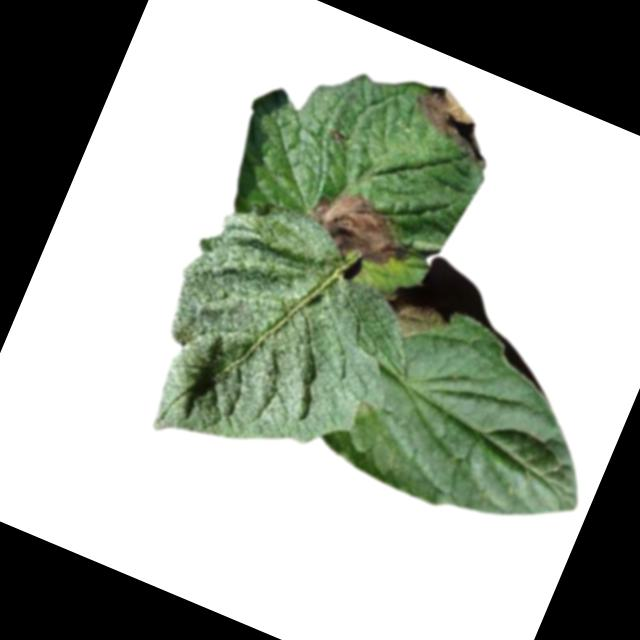Late_blight: (295, 177, 425, 283), (402, 79, 507, 168), (371, 288, 453, 352), (324, 127, 346, 146)
